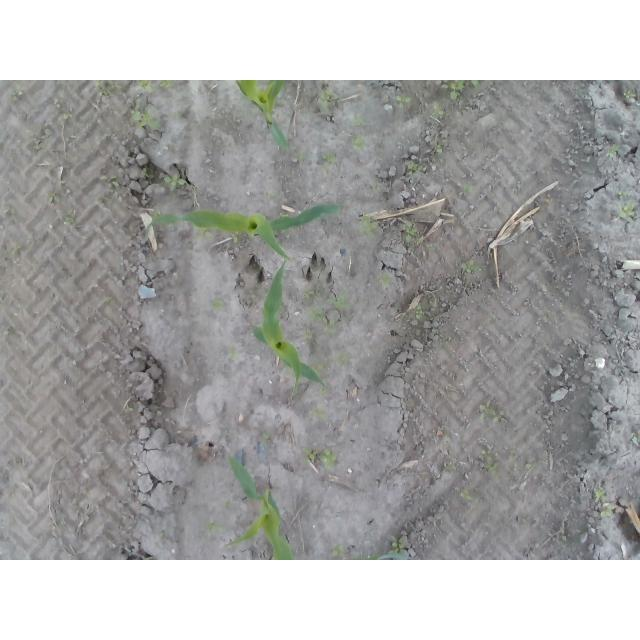Maize: (141, 202, 343, 259), (251, 256, 329, 396), (226, 453, 298, 560), (235, 80, 289, 152)
Weeds: (477, 400, 511, 423), (301, 445, 336, 467), (448, 80, 481, 102), (295, 150, 337, 167), (129, 109, 160, 129), (327, 286, 352, 310), (595, 487, 614, 518), (618, 200, 638, 225), (94, 80, 122, 97), (359, 216, 378, 241), (319, 88, 338, 113), (367, 549, 409, 560), (164, 173, 187, 191), (190, 226, 214, 243), (389, 532, 407, 553), (461, 259, 483, 274), (303, 328, 321, 345), (307, 304, 326, 320), (351, 112, 369, 128), (404, 223, 417, 244), (100, 175, 121, 188), (350, 135, 367, 151), (335, 352, 351, 368), (328, 543, 346, 557), (136, 80, 154, 94), (208, 299, 226, 312), (380, 271, 393, 289), (405, 162, 423, 175), (460, 489, 476, 503), (206, 519, 222, 533), (223, 350, 241, 362), (310, 407, 326, 420), (394, 94, 410, 106), (526, 463, 547, 472), (433, 101, 445, 116), (11, 239, 21, 256), (304, 288, 317, 301), (606, 144, 619, 157), (443, 462, 458, 473), (463, 183, 479, 193), (416, 304, 425, 321), (56, 112, 73, 121), (479, 448, 491, 460), (47, 194, 57, 208), (258, 433, 268, 446), (485, 463, 498, 473), (62, 215, 74, 225), (160, 81, 177, 88), (232, 232, 241, 244), (124, 403, 134, 413), (434, 144, 444, 153), (624, 88, 633, 98), (142, 167, 151, 177), (269, 191, 280, 199), (8, 88, 17, 97), (618, 191, 626, 201), (317, 389, 325, 397), (629, 432, 636, 441)
